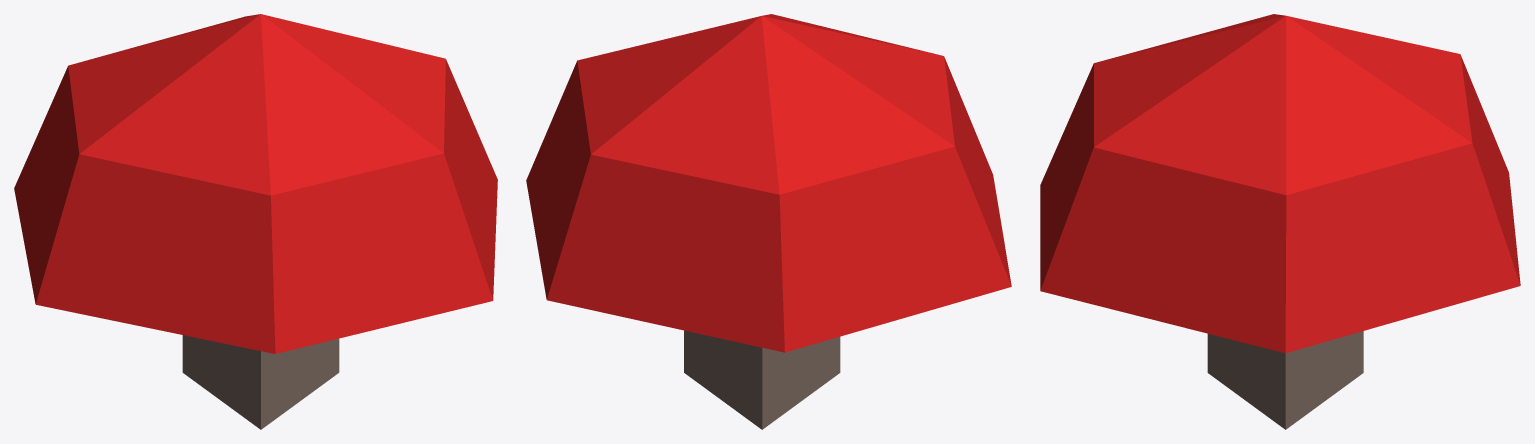
Rendered from TB_Env_MushroomB.FBX.
3 views of the same model, side by side, from view 1: azimuth 30°, elevation 25°; view 2: azimuth 150°, elevation 25°; view 3: azimuth 270°, elevation 25° (orthographic).
Visible parts, largest first — view 1: TB_Env_MushroomB; view 2: TB_Env_MushroomB; view 3: TB_Env_MushroomB.
Boxes of the visible parts, x1,y1,x2,y2 form: TB_Env_MushroomB: (14, 14, 497, 429); TB_Env_MushroomB: (526, 14, 1011, 429); TB_Env_MushroomB: (1040, 14, 1520, 429).
Bounding box in the file's own units: 0.2676 × 0.2033 × 0.2352.
